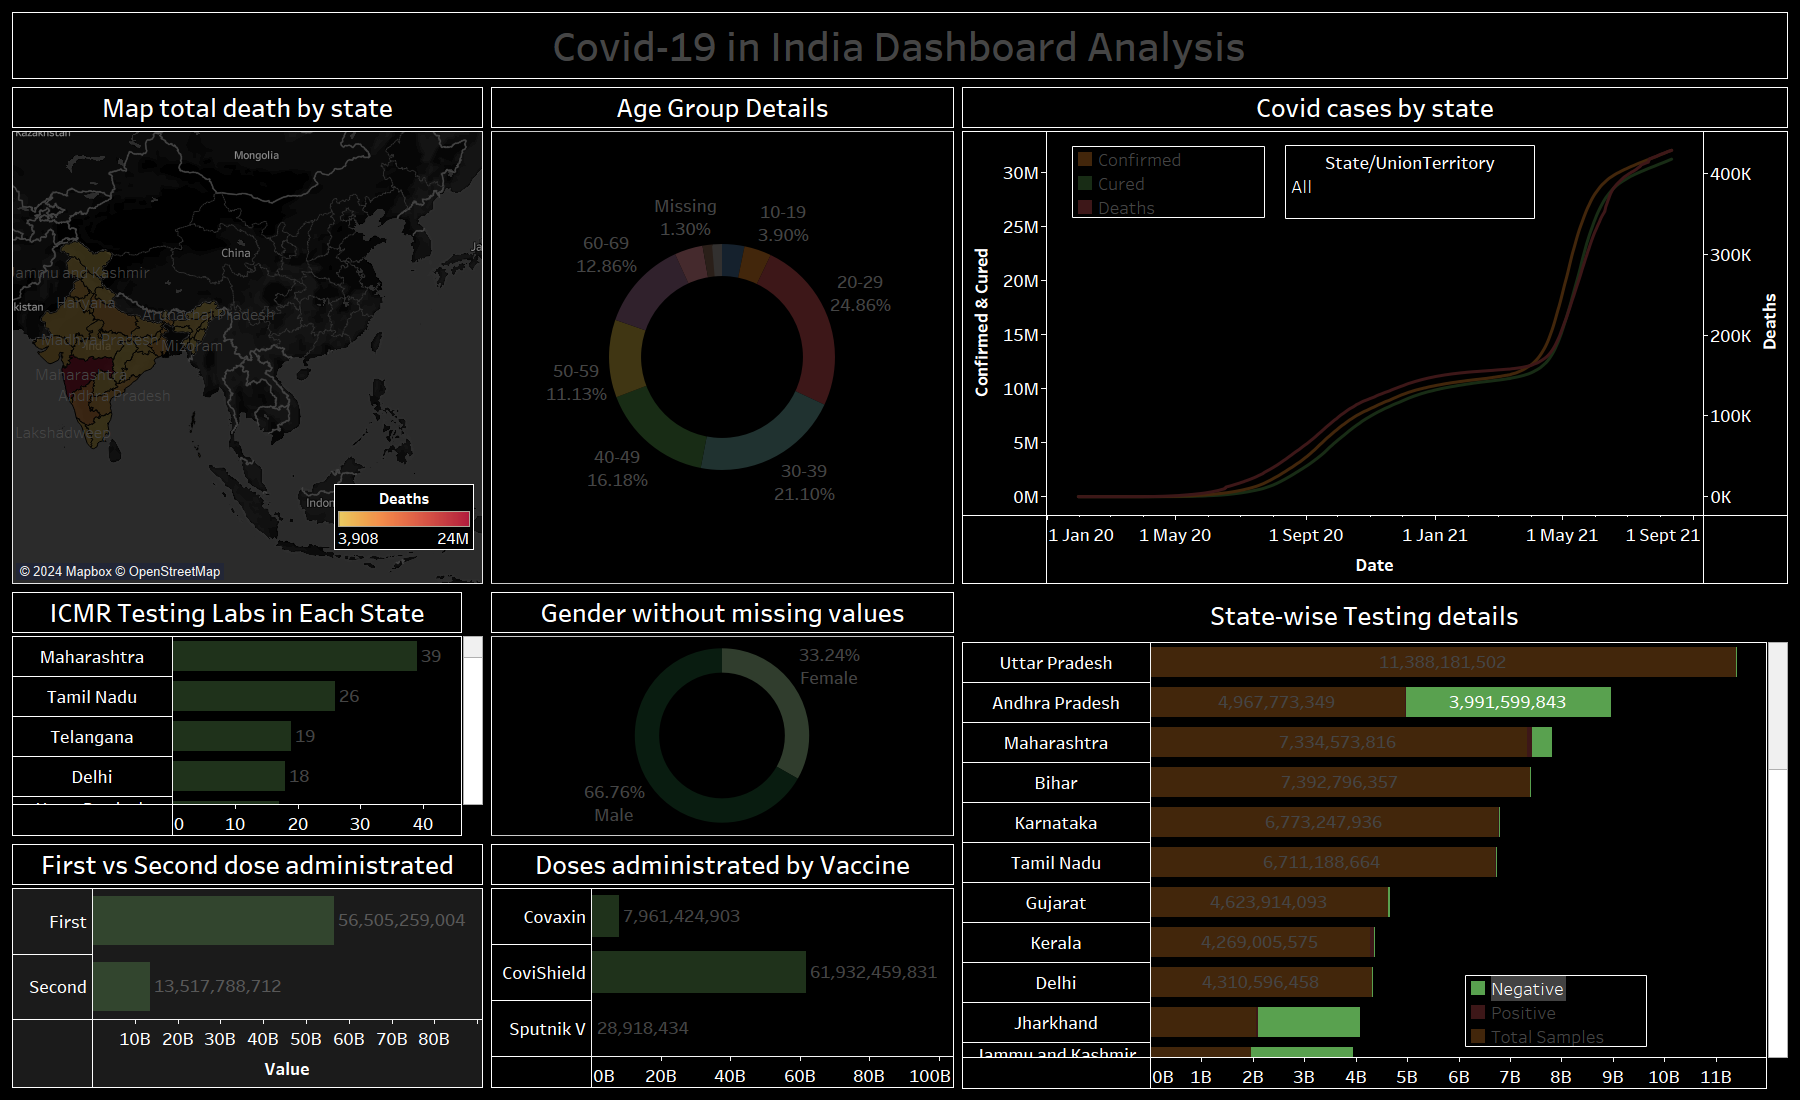

The dashboard page shown, as its layout file describes it:
{"tool":"tableau","page":{"name":"Dashboard 1","canvas":[1800,1100],"ordinal":0},"visuals":[{"type":"worksheet","title":"Title","mark":"Automatic","box":[8,8,1784,75]},{"type":"worksheet","title":"Map total death by state","mark":"Automatic","box":[8,83,479,504.5]},{"type":"worksheet","title":"Age Group Details","mark":"Pie","rows":["Calculation_-[number redacted]","Calculation_-[number redacted]"],"box":[487,83,471,504.5]},{"type":"worksheet","title":"Covid cases by state","mark":"Automatic","rows":["Deaths"],"cols":["Date"],"box":[958,83,834,504.5]},{"type":"filter","title":"Covid cases by state","param":"[federated.1pop9od0kc2qkh13wg3hu1sttdni].[none:State/UnionTerritory:nk]","box":[1285,145,250,74]},{"type":"legend","title":"Covid cases by state","param":"[federated.1pop9od0kc2qkh13wg3hu1sttdni].[:Measure Names]","box":[1072,146,193,72]},{"type":"legend","title":"Map total death by state","param":"[federated.1pop9od0kc2qkh13wg3hu1sttdni].[sum:Deaths:qk]","box":[334,484,140,88]},{"type":"worksheet","title":"ICMR Testing Labs in Each State","mark":"Automatic","rows":["state"],"cols":["lab"],"box":[8,587.5,479,252.2]},{"type":"worksheet","title":"Gender without missing values","mark":"Pie","rows":["Calculation_-[number redacted]","Calculation_-[number redacted]"],"box":[487,587.5,471,252.3]},{"type":"worksheet","title":"State-wise Testing details","mark":"Automatic","rows":["State"],"box":[958,587.5,834,504.5]},{"type":"worksheet","title":"First vs Second dose administrated","mark":"Automatic","box":[8,839.8,479,252.3]},{"type":"worksheet","title":"Doses administrated by Vaccine","mark":"Automatic","box":[487,839.8,471,252.2]},{"type":"legend","title":"State-wise Testing details","param":"[federated.1ofzr4f0f1fjxs17bu1hv0wrgls7].[:Measure Names]","box":[1465,975,182,72]}]}

Visuals, with their boxes in screenshot pixels (x1, y1, x2, y2), scaled from the page's 1800x1100 canvas onto the 1800x1100 screenshot:
"Title" worksheet: bbox=(8, 8, 1792, 83)
"Map total death by state" worksheet: bbox=(8, 83, 487, 588)
"Age Group Details" worksheet (Pie marks): bbox=(487, 83, 958, 588)
"Covid cases by state" worksheet: bbox=(958, 83, 1792, 588)
"Covid cases by state" filter: bbox=(1285, 145, 1535, 219)
"Covid cases by state" legend: bbox=(1072, 146, 1265, 218)
"Map total death by state" legend: bbox=(334, 484, 474, 572)
"ICMR Testing Labs in Each State" worksheet: bbox=(8, 588, 487, 840)
"Gender without missing values" worksheet (Pie marks): bbox=(487, 588, 958, 840)
"State-wise Testing details" worksheet: bbox=(958, 588, 1792, 1092)
"First vs Second dose administrated" worksheet: bbox=(8, 840, 487, 1092)
"Doses administrated by Vaccine" worksheet: bbox=(487, 840, 958, 1092)
"State-wise Testing details" legend: bbox=(1465, 975, 1647, 1047)
